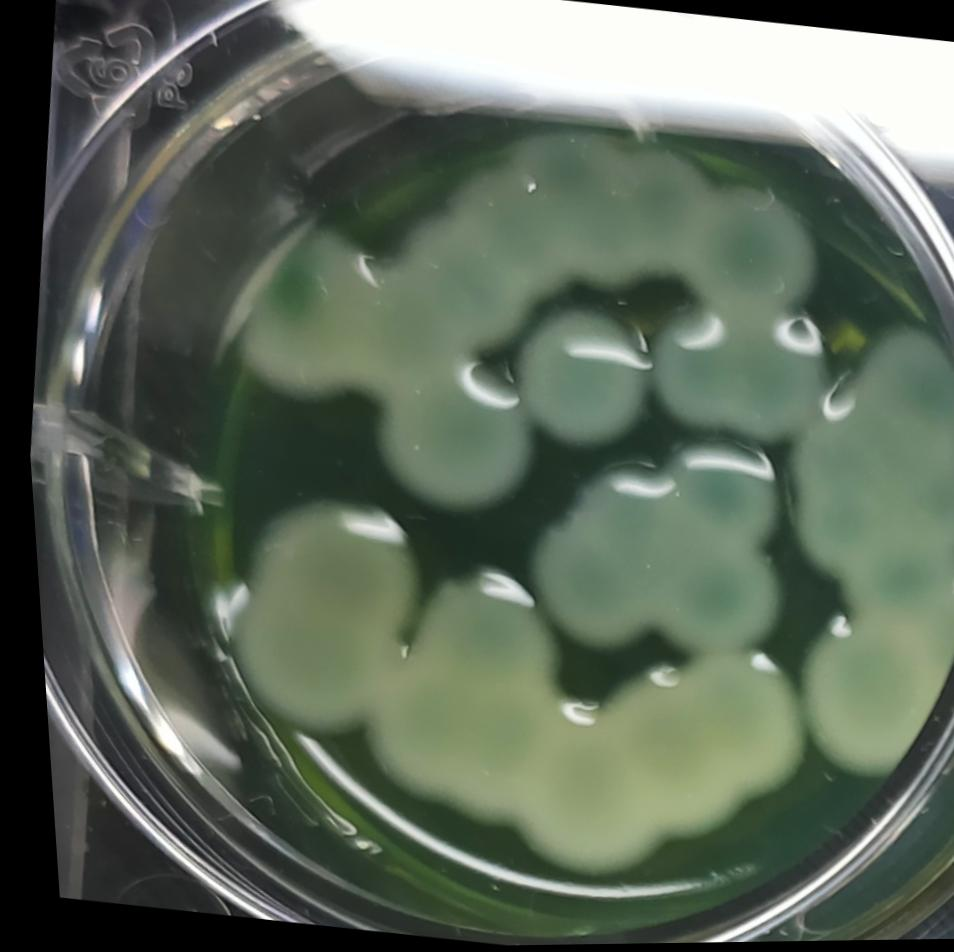valgino: (728, 314, 954, 805), (360, 97, 713, 394), (513, 638, 803, 893), (515, 429, 793, 669), (342, 564, 551, 842), (205, 483, 424, 743), (353, 345, 556, 523), (209, 218, 386, 417), (635, 301, 836, 457), (486, 296, 650, 460), (673, 182, 831, 320)
